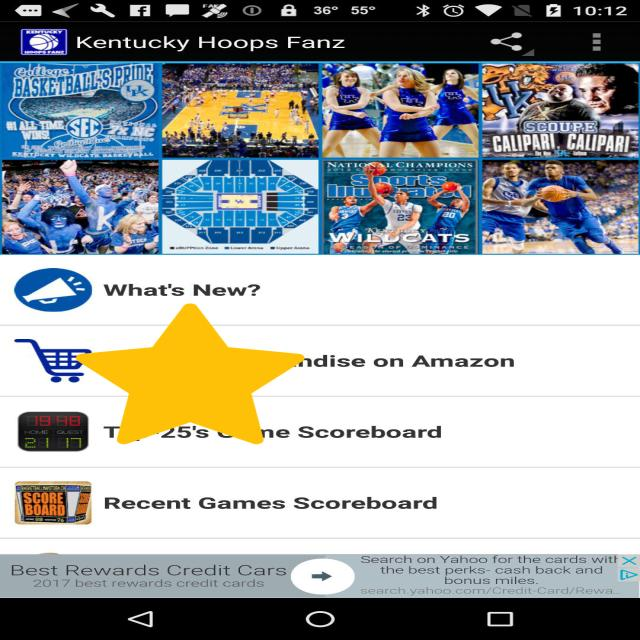forced continuity: (76, 304, 304, 444)
